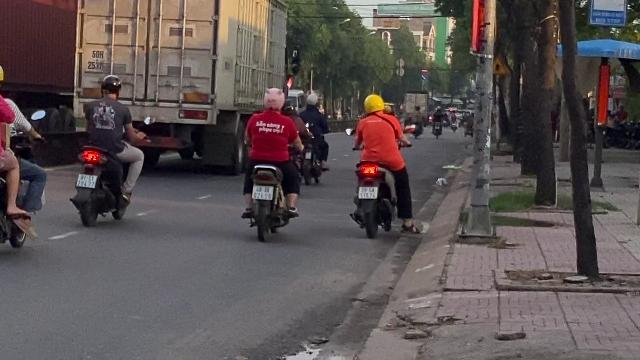helmet: (261, 87, 285, 111), (99, 74, 121, 98), (362, 93, 386, 114)
licenseplate: (252, 184, 274, 200), (76, 174, 96, 188), (358, 186, 378, 198)
motorcyclist: (71, 71, 143, 226), (236, 86, 304, 240), (346, 92, 416, 238)
